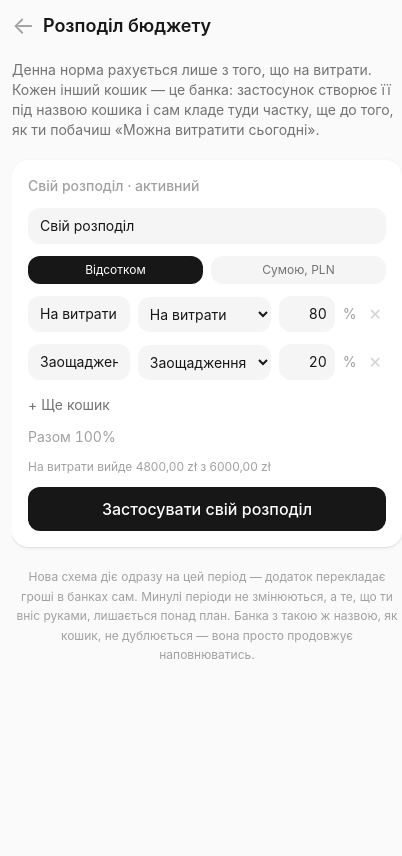
Test: a split typed in money › says out loud that the sum holds only while the budget does
Click the button "Сумою, PLN" at (298, 270), box x1=211 y1=256 x2=386 y2=284
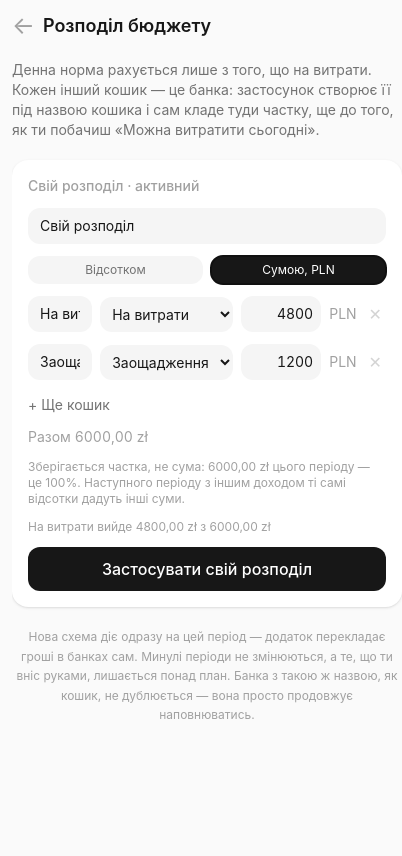
Now the text "Зберігається частка, не сума" is shown, box x1=28 y1=459 x2=208 y2=474
